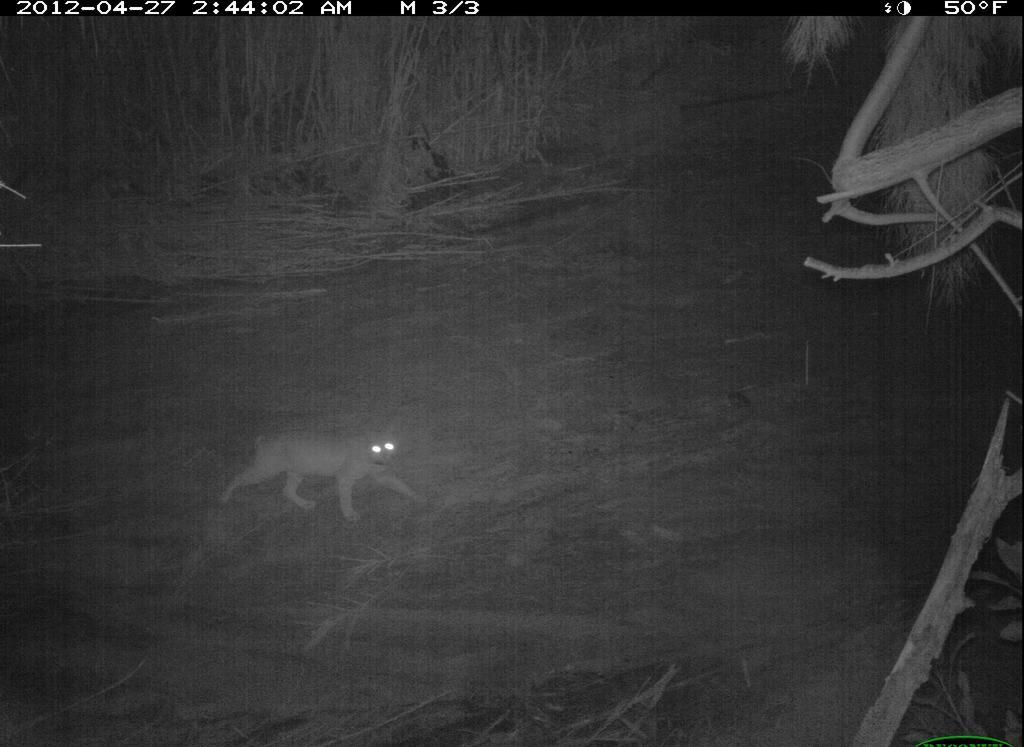bobcat: (212, 404, 434, 533)
